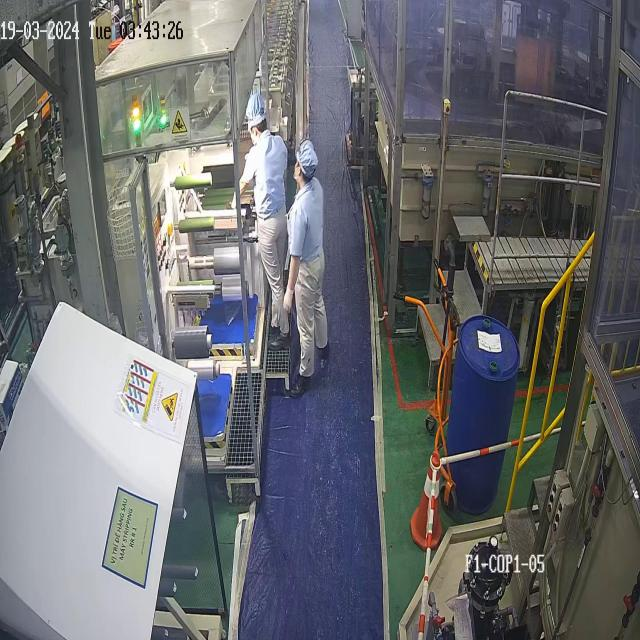Person: (229, 92, 290, 348), (282, 139, 329, 398)
